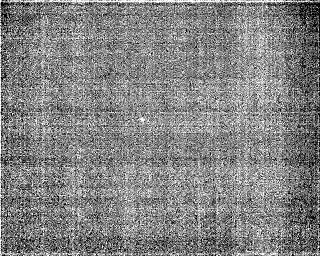AIRPLANE: (138, 115, 147, 125)
